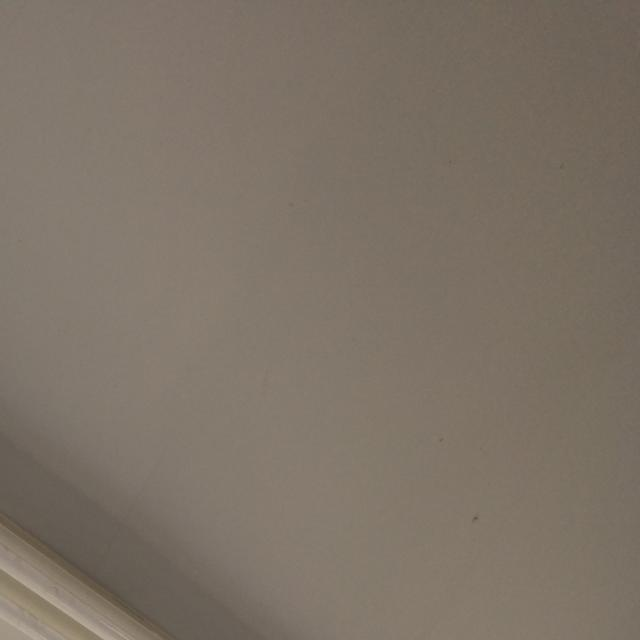fluorescent tube: (0, 279, 421, 640)
